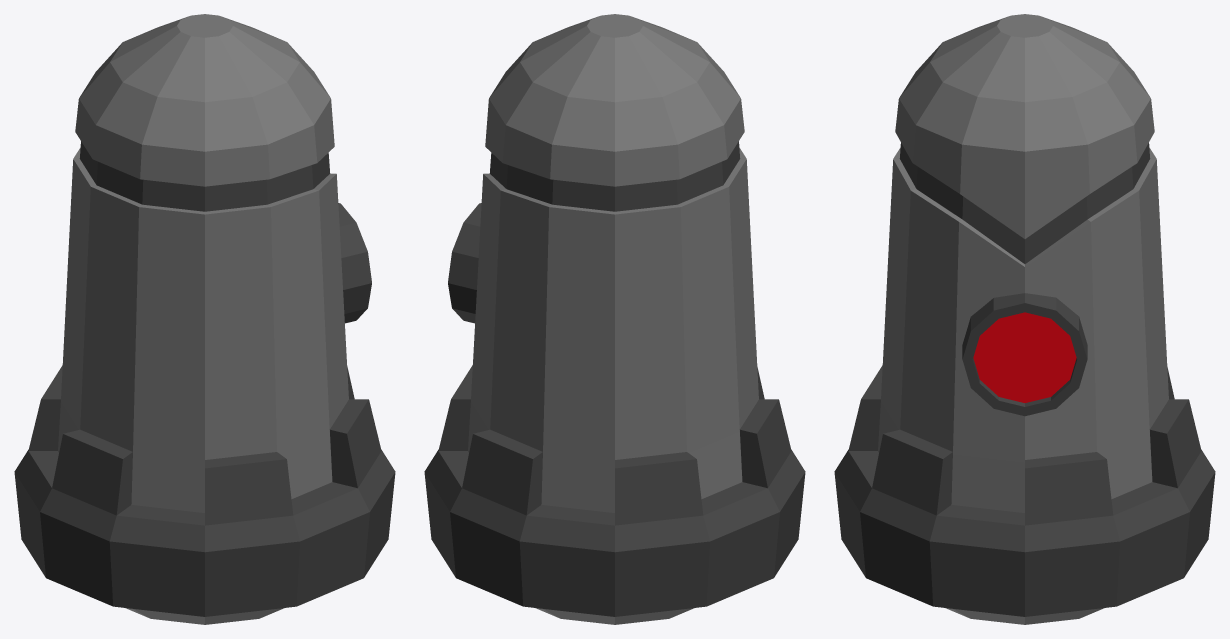
File: Drone.fbx
The picture shows the model from 3 angles, left to right: view 1: azimuth 30°, elevation 25°; view 2: azimuth 150°, elevation 25°; view 3: azimuth 270°, elevation 25°; orthographic projection.
Parts seen in each view (by area): view 1: Cylinder, Cylinder.001, Cylinder.002; view 2: Cylinder, Cylinder.001, Cylinder.002; view 3: Cylinder, Cylinder.001, Cylinder.002.
Boxes of the visible parts, <box> form: Cylinder: <box>58,14,348,624</box>; Cylinder.001: <box>14,365,395,616</box>; Cylinder.002: <box>338,203,371,323</box>; Cylinder: <box>468,14,758,624</box>; Cylinder.001: <box>424,365,805,616</box>; Cylinder.002: <box>448,203,481,323</box>; Cylinder: <box>878,14,1168,624</box>; Cylinder.001: <box>834,365,1215,616</box>; Cylinder.002: <box>962,293,1087,416</box>.
Size of the model in its own units: 302 by 484 by 302.
